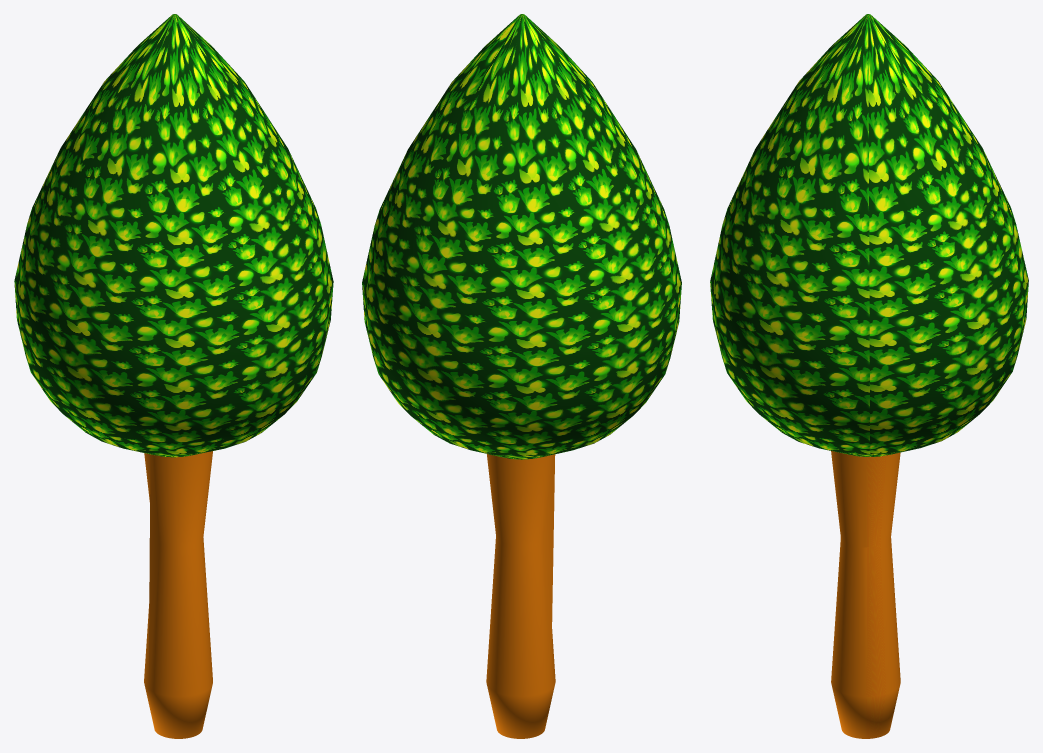
Rendered from TreePrefab3.fbx.
The picture shows the model from 3 angles, left to right: view 1: azimuth 30°, elevation 25°; view 2: azimuth 150°, elevation 25°; view 3: azimuth 270°, elevation 25°; orthographic projection.
Parts seen in each view (by area): view 1: Sphere, Cylinder; view 2: Sphere, Cylinder; view 3: Sphere, Cylinder.
Part boxes in pixels (x1,y1,x2,y2): Sphere: (14,14,333,457); Cylinder: (144,451,212,738); Sphere: (362,14,681,459); Cylinder: (486,454,555,738); Sphere: (710,14,1028,456); Cylinder: (831,451,900,738).
Bounding box in the file's own units: 325 × 802 × 325.
Materials: 2 (2 with a texture image).
